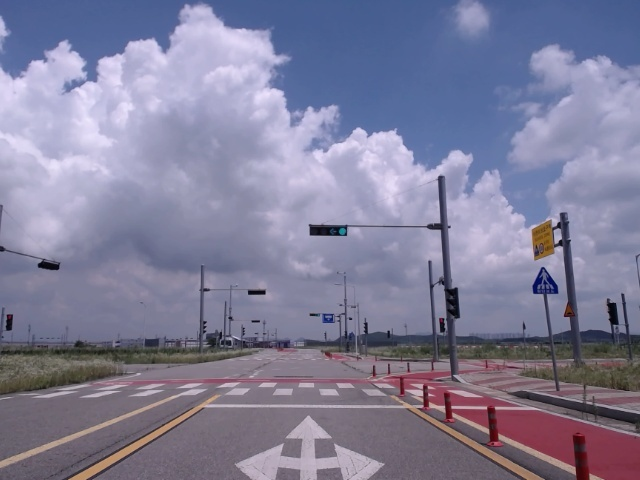all_green_4: (309, 225, 352, 238)
